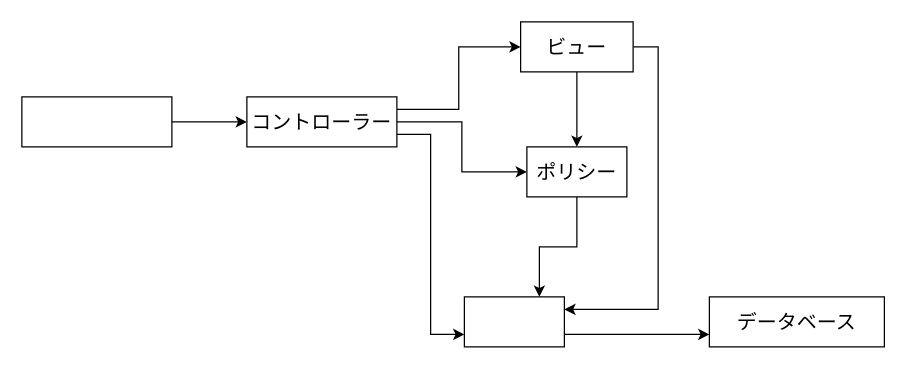
Some shapes in this 906 by 369 pixel diagram are drawn without their labels. Here are the shapes that lost their labels. From the top down, the centre of each, then its label:
At (96,121): "ルーティング".
At (513,321): "モデル".
